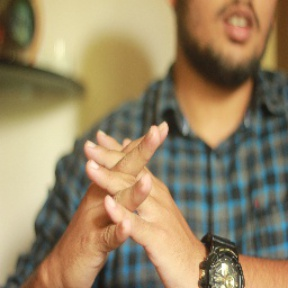W: (73, 115, 187, 279)
